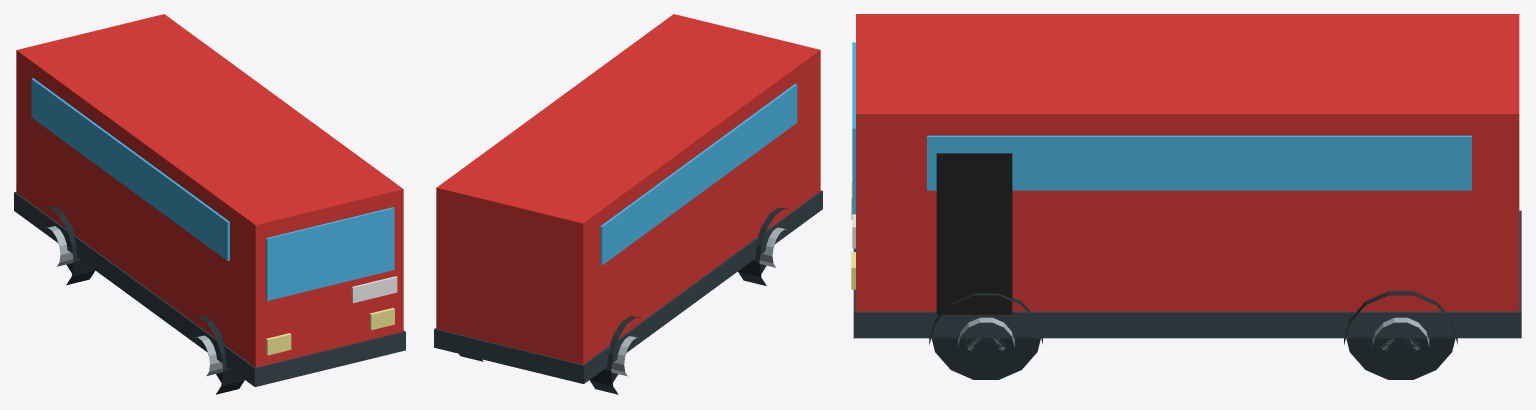
File: buss.glb
3 renders of one model, left to right at view 1: azimuth 30°, elevation 25°; view 2: azimuth 150°, elevation 25°; view 3: azimuth 270°, elevation 25°, orthographic. The views are drawn at different scales.
Parts seen in each view (by area): view 1: buss; view 2: buss; view 3: buss.
Part boxes in pixels (left/top/right/bottom): buss: left=14, top=14, right=405, bottom=394; buss: left=434, top=14, right=822, bottom=394; buss: left=851, top=14, right=1521, bottom=379.
Bounding box in the file's own units: 1.12 × 1.29 × 2.83.
